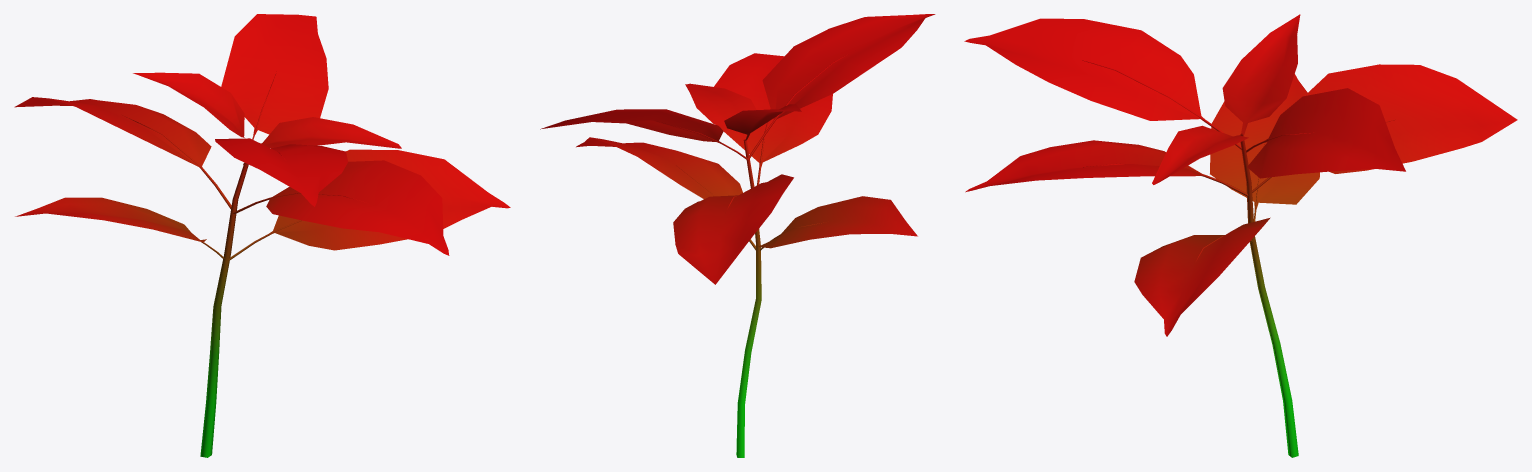
Rendered from Common Hemp Nettle_LOD2_Var1_xh1kdfbqx.fbx.
3 views of the same model, side by side, from view 1: azimuth 30°, elevation 25°; view 2: azimuth 150°, elevation 25°; view 3: azimuth 270°, elevation 25° (orthographic). The views are drawn at different scales.
Parts seen in each view (by area): view 1: _b2x5_Var1_LOD2; view 2: _b2x5_Var1_LOD2; view 3: _b2x5_Var1_LOD2.
Part boxes in pixels (box(x1,y1,x2,y2)): _b2x5_Var1_LOD2: box(14, 14, 510, 457); _b2x5_Var1_LOD2: box(540, 14, 935, 457); _b2x5_Var1_LOD2: box(964, 14, 1517, 457).
Bounding box in the file's own units: 28.94 × 25.22 × 31.16.
